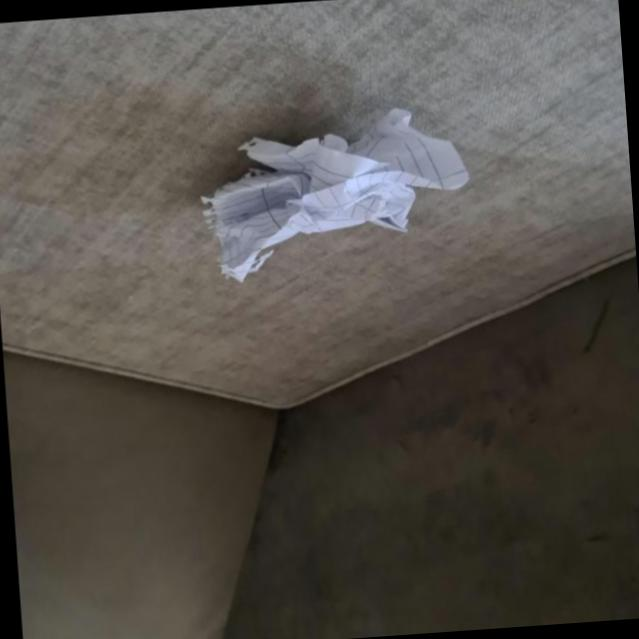cardboard paper: (202, 108, 467, 281)
